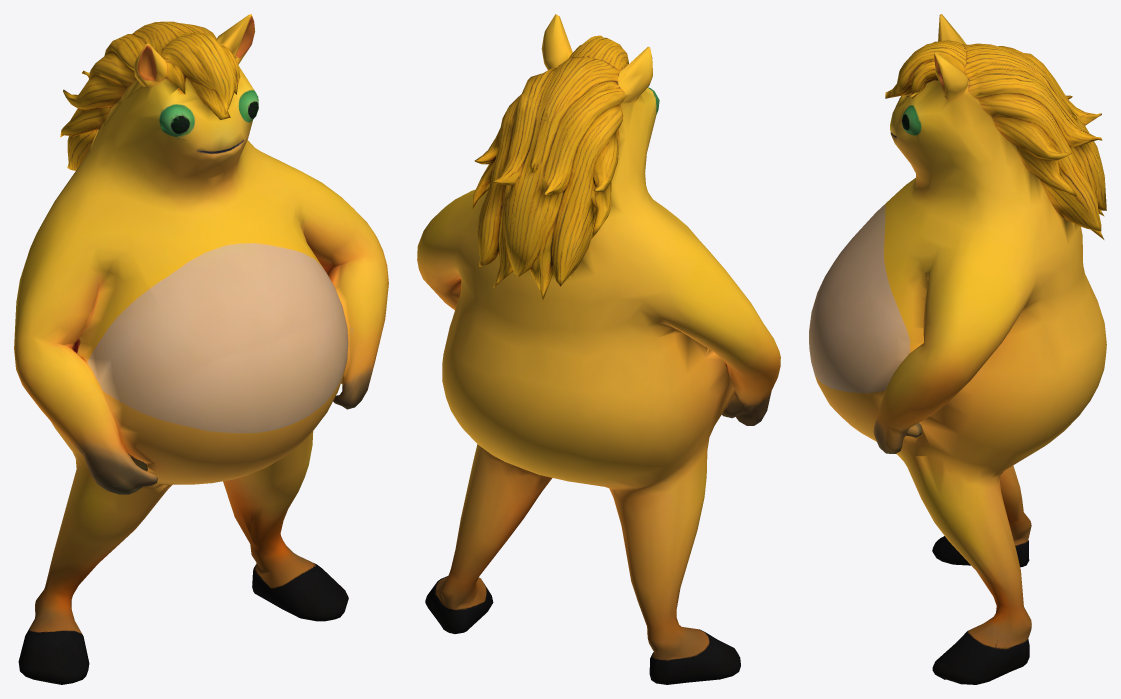
3 renders of one model, left to right at view 1: azimuth 30°, elevation 25°; view 2: azimuth 150°, elevation 25°; view 3: azimuth 270°, elevation 25°, orthographic. The views are drawn at different scales.
Parts seen in each view (by area): view 1: tripo_node_c693a3dd; view 2: tripo_node_c693a3dd; view 3: tripo_node_c693a3dd.
Part boxes in pixels (bbox=[...]): tripo_node_c693a3dd: bbox=[14, 14, 388, 684]; tripo_node_c693a3dd: bbox=[417, 14, 780, 684]; tripo_node_c693a3dd: bbox=[809, 14, 1106, 684].
Size of the model in its own units: 0.613 by 1 by 0.4637.
1 material, 1 textured.
